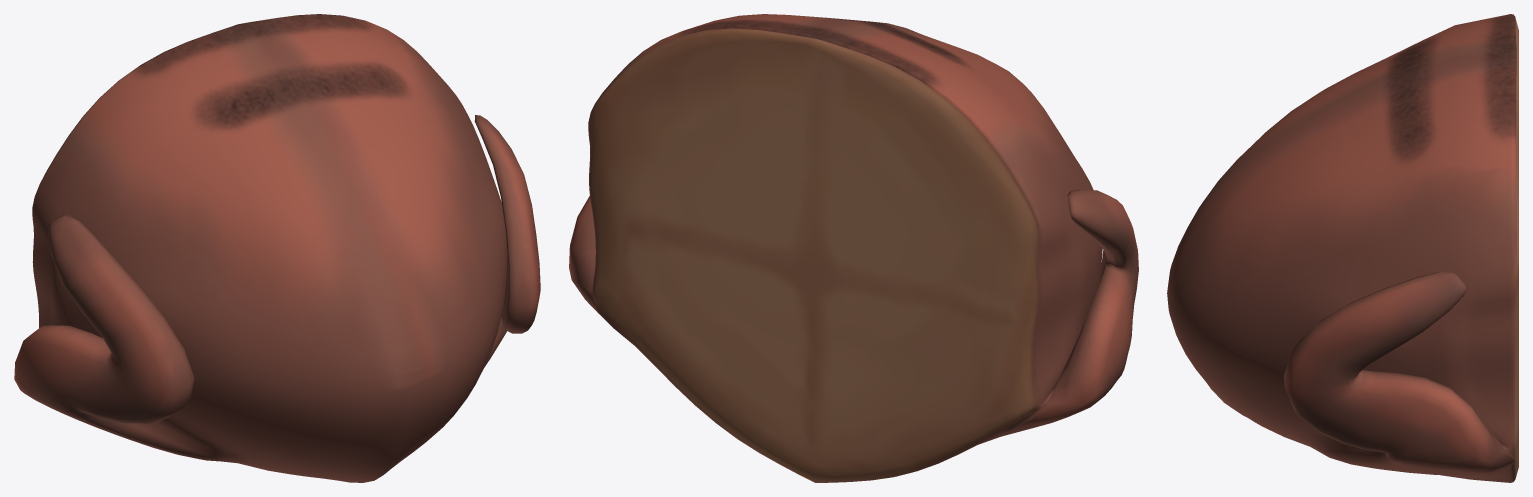
File: pollo-cortado-1.fbx
3 renders of one model, left to right at view 1: azimuth 30°, elevation 25°; view 2: azimuth 150°, elevation 25°; view 3: azimuth 270°, elevation 25°, orthographic. The views are drawn at different scales.
Parts seen in each view (by area): view 1: pollo cortado 1; view 2: pollo cortado 1; view 3: pollo cortado 1.
Boxes of the visible parts, left/top/right/bottom form: pollo cortado 1: left=14, top=14, right=540, bottom=482; pollo cortado 1: left=569, top=14, right=1138, bottom=482; pollo cortado 1: left=1167, top=14, right=1518, bottom=482.
Bounding box in the file's own units: 139 × 112 × 84.74.
